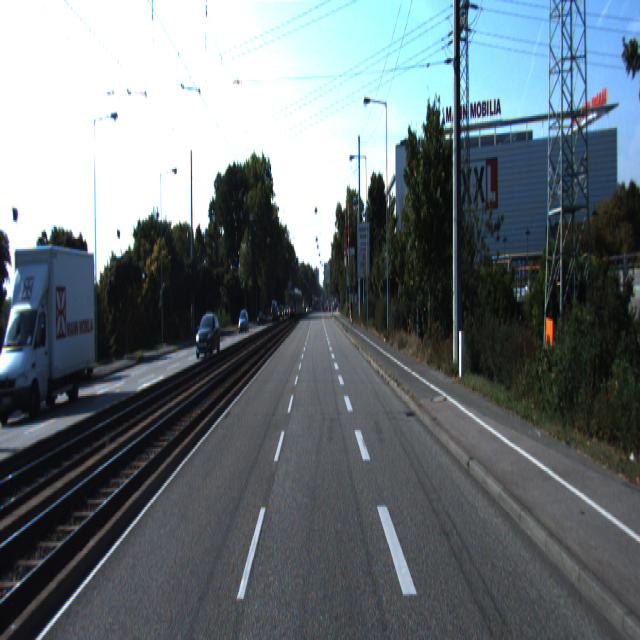Car: (0, 237, 99, 425), (194, 313, 221, 361)
